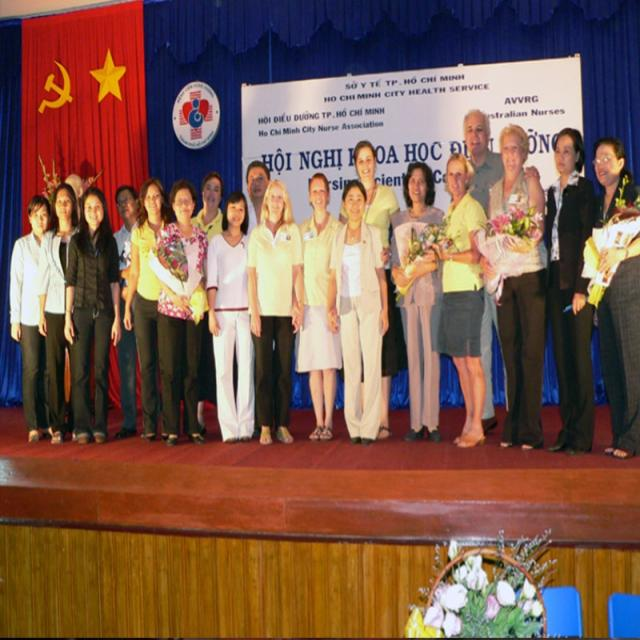body: (462, 108, 542, 439), (472, 124, 550, 452), (338, 138, 402, 442), (432, 148, 491, 450), (543, 128, 597, 457), (388, 159, 449, 445), (326, 177, 389, 446), (244, 174, 306, 447), (590, 134, 640, 462), (290, 170, 348, 443), (62, 184, 122, 447), (152, 177, 210, 449), (205, 189, 258, 445), (122, 176, 172, 445), (36, 181, 81, 445), (8, 193, 54, 445), (188, 170, 226, 442), (112, 182, 144, 442), (243, 159, 272, 234), (60, 171, 90, 222)
